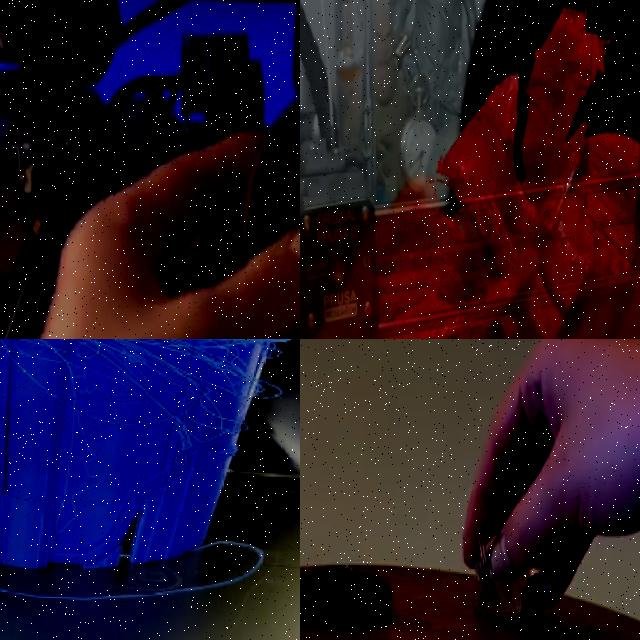spaghetti: (0, 339, 300, 428)
